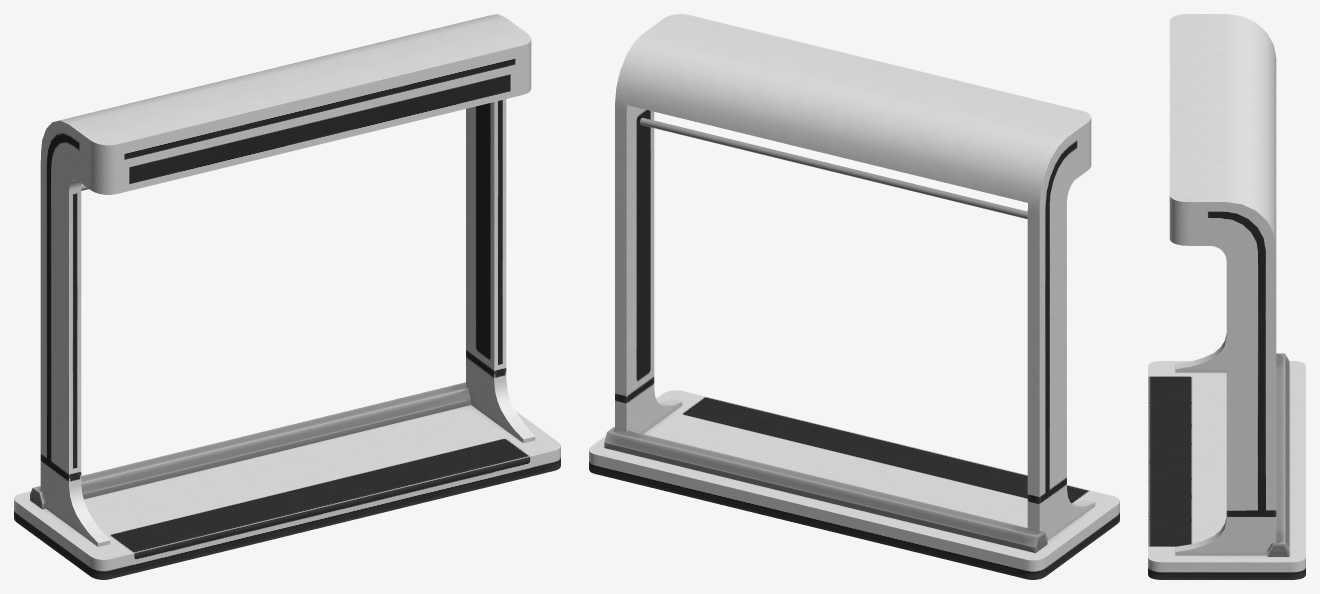
Rendered from ClothesHanger01_3.FBX.
3 renders of one model, left to right at view 1: azimuth 30°, elevation 25°; view 2: azimuth 150°, elevation 25°; view 3: azimuth 270°, elevation 25°, orthographic. The views are drawn at different scales.
Parts seen in each view (by area): view 1: ClothesHanger01_3; view 2: ClothesHanger01_3; view 3: ClothesHanger01_3.
Part boxes in pixels (x1,y1,x2,y2): ClothesHanger01_3: (14, 14, 560, 579); ClothesHanger01_3: (589, 14, 1119, 579); ClothesHanger01_3: (1148, 14, 1305, 579).
Size of what is drawn, in the model's own units: 2.85 by 2.45 by 0.9453.
